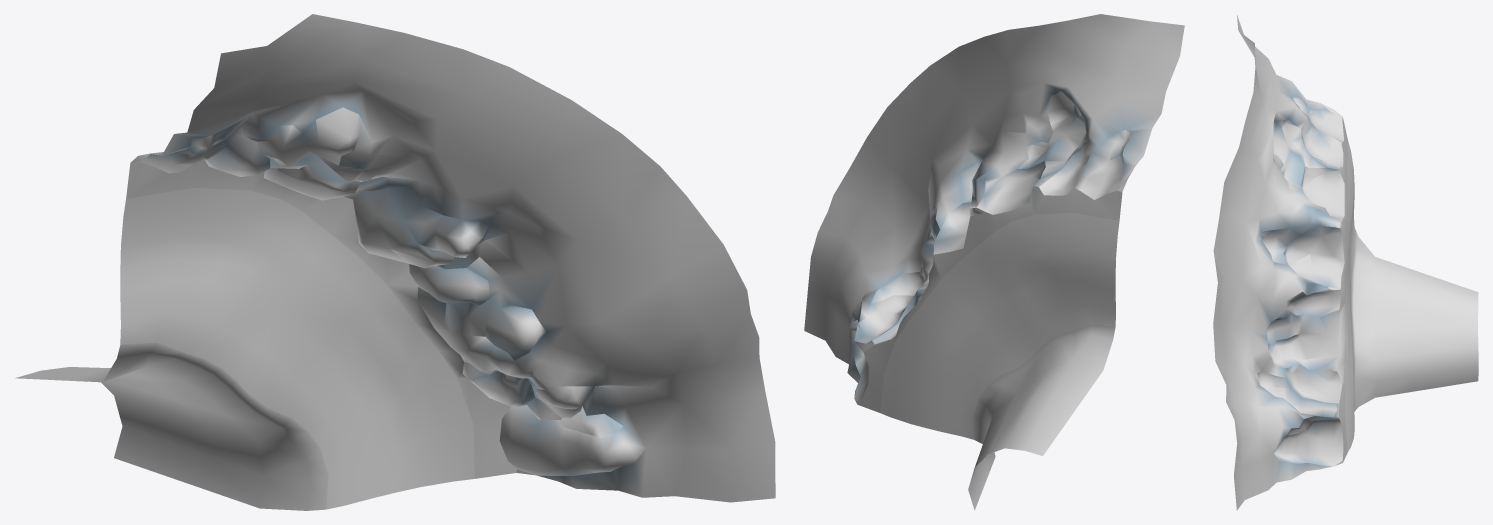
Rendered from Snow_CurveInA_lod1.glb.
3 renders of one model, left to right at view 1: azimuth 30°, elevation 25°; view 2: azimuth 150°, elevation 25°; view 3: azimuth 270°, elevation 25°, orthographic. The views are drawn at different scales.
Visible parts, largest first — view 1: MeshNode_0, MeshNode_1; view 2: MeshNode_0, MeshNode_1; view 3: MeshNode_0, MeshNode_1.
Part boxes in pixels (x1,y1,x2,y2): MeshNode_0: (15, 14, 775, 510); MeshNode_1: (120, 188, 474, 509); MeshNode_0: (804, 14, 1184, 510); MeshNode_1: (880, 213, 1119, 439); MeshNode_0: (1213, 15, 1478, 510); MeshNode_1: (1344, 141, 1354, 451).
Size of the model in its own units: 128 by 128 by 90.91.
